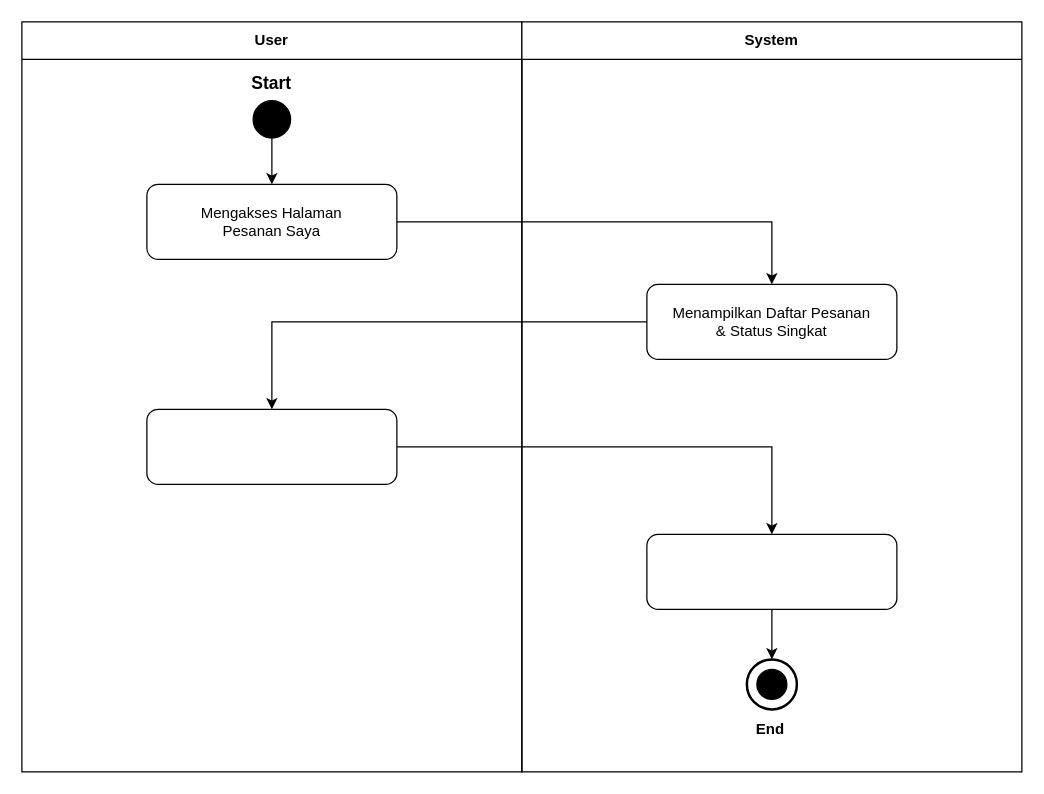
Some shapes in this 1044 by 794 pixel diagram are drawn without their labels. The centre of each missing label's shape, as x and y in pixels:
"Memilih Salah Satu Pesanan" goes at point 271,446.
"Menampilkan Detail Pesanan & Status Lengkap" goes at point 771,571.
